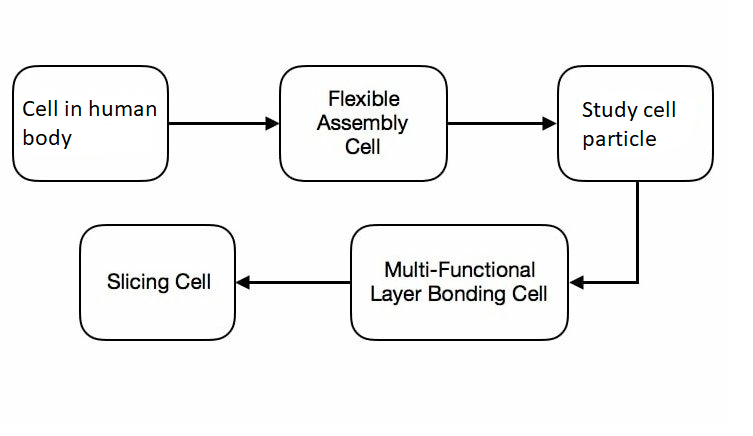arrow: (567, 179, 645, 291), (233, 271, 354, 295), (167, 112, 280, 133), (447, 116, 558, 132)
process: (347, 222, 571, 341), (6, 60, 177, 183), (276, 64, 450, 184), (554, 64, 718, 184), (76, 220, 237, 341)
text: (368, 259, 550, 307), (18, 97, 158, 151), (314, 88, 412, 157), (575, 98, 679, 150), (105, 270, 213, 293)
